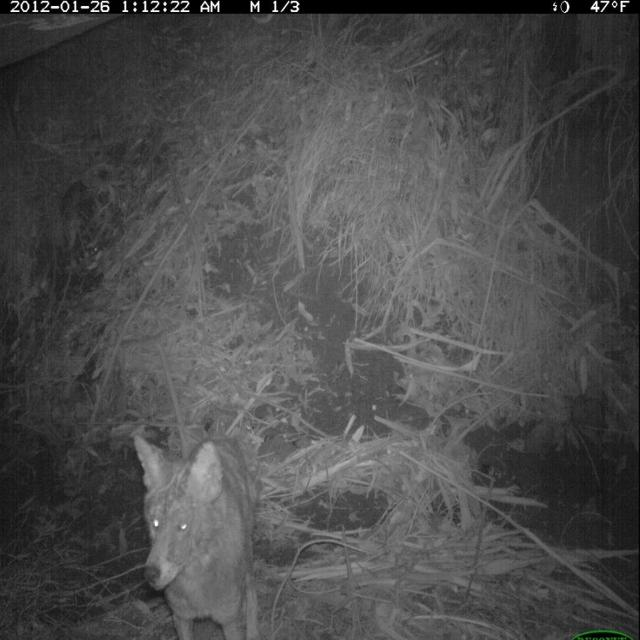coyote: (125, 415, 267, 640)
